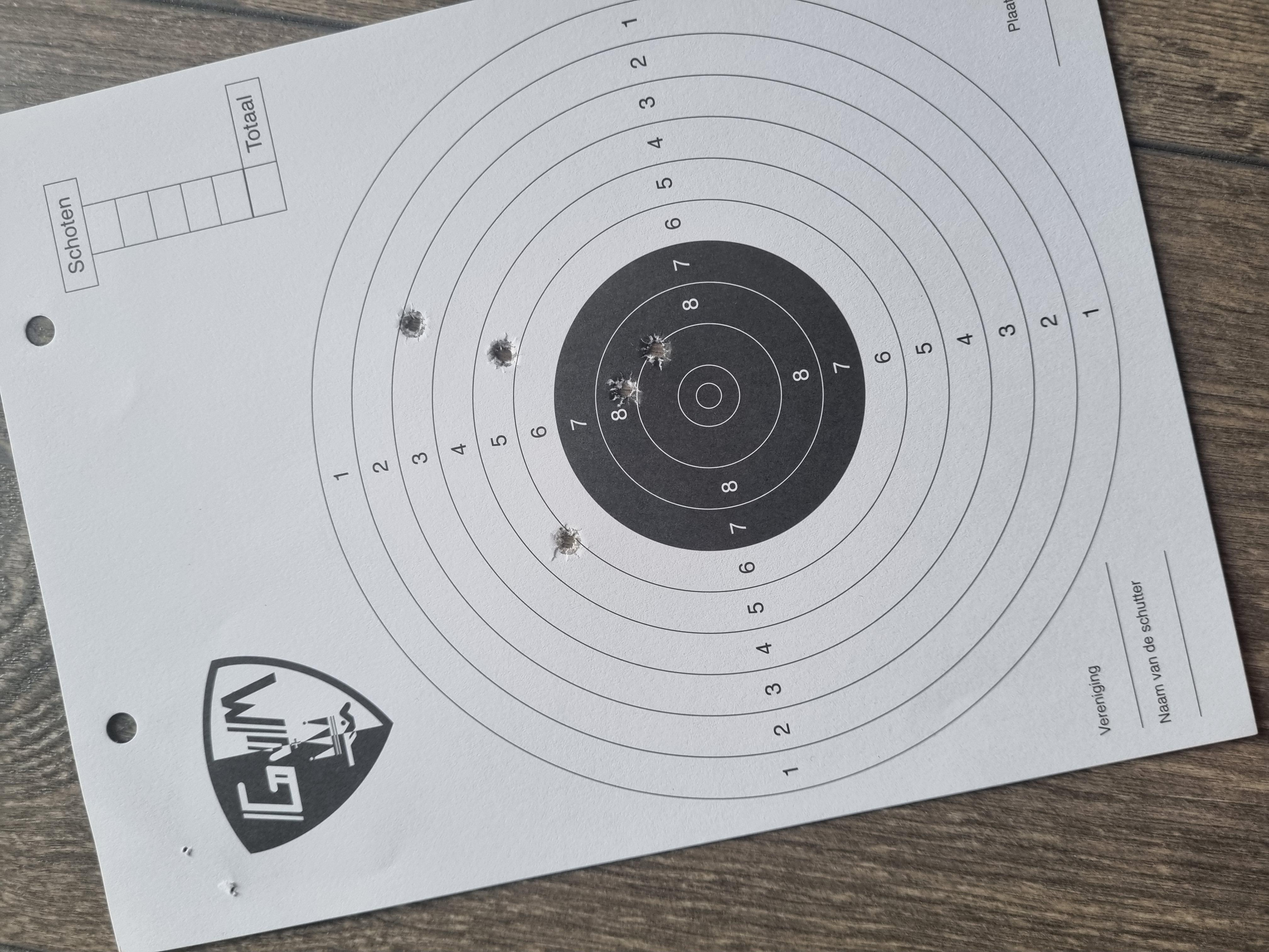hole: (725, 455, 774, 480), (774, 479, 824, 503), (522, 414, 570, 437), (779, 365, 825, 388), (812, 299, 860, 319)
